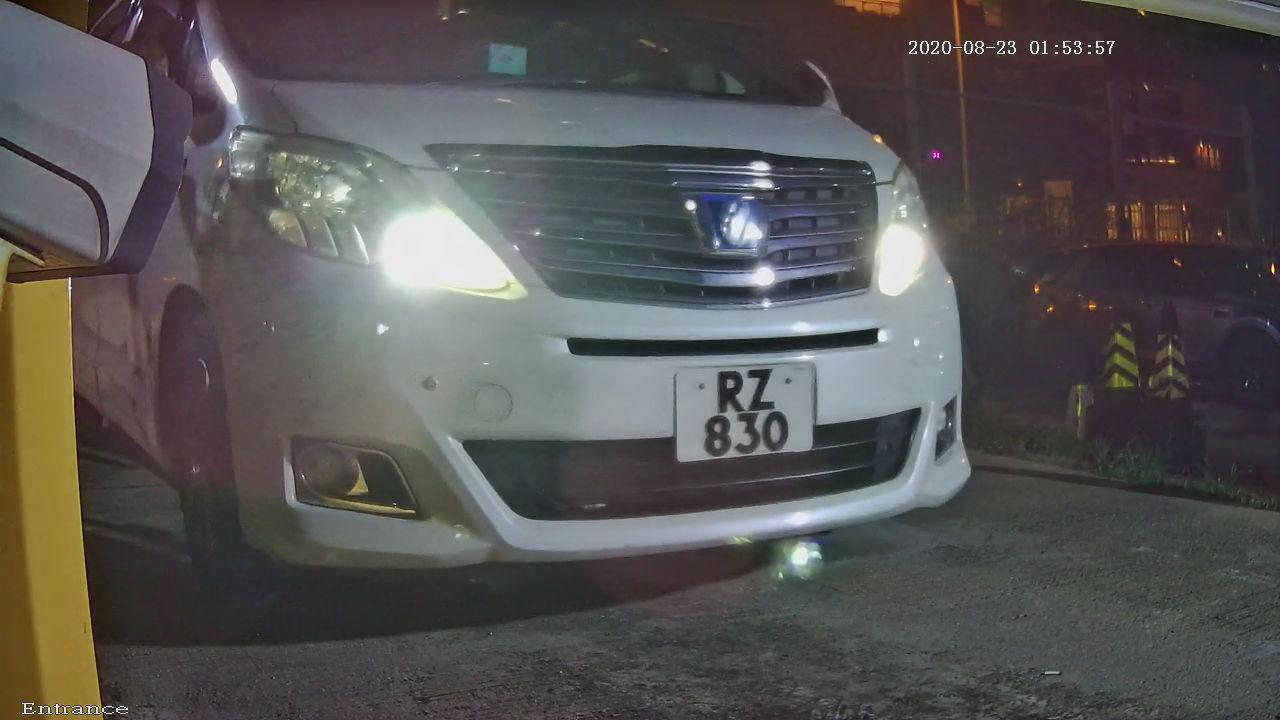Car: (81, 20, 1041, 631)
License Plate: (646, 348, 841, 479)
